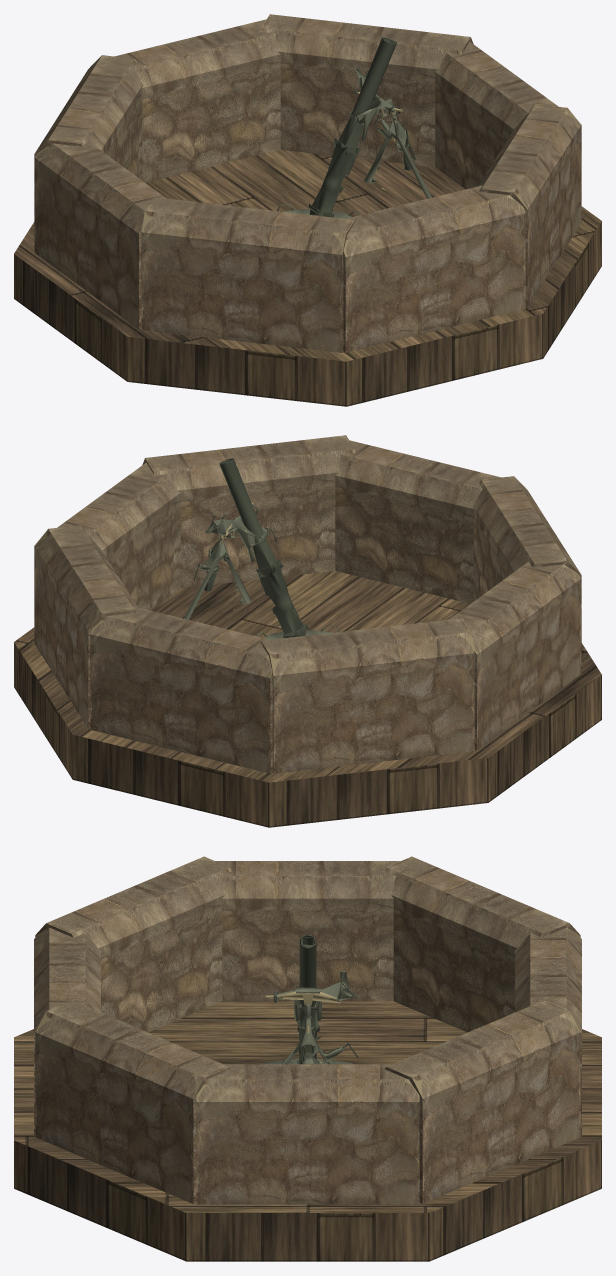
The model's file is mortar.glb.
3 views of the same model, one above another, from view 1: azimuth 30°, elevation 25°; view 2: azimuth 150°, elevation 25°; view 3: azimuth 270°, elevation 25° (orthographic). The views are drawn at different scales.
Visible parts, largest first — view 1: SM_Mortar; view 2: SM_Mortar; view 3: SM_Mortar.
Part boxes in pixels (<box>): SM_Mortar: <box>14,14,601,406</box>; SM_Mortar: <box>14,435,601,827</box>; SM_Mortar: <box>14,856,601,1261</box>.
Size of the model in its own units: 4.4 by 2 by 4.4.
Materials: 5 (2 with a texture image).
